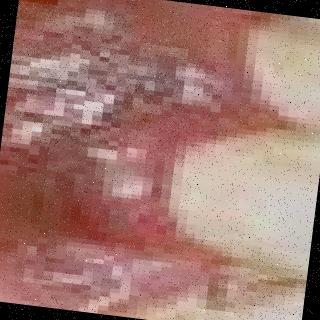Gum Swelling: (11, 22, 183, 219)
